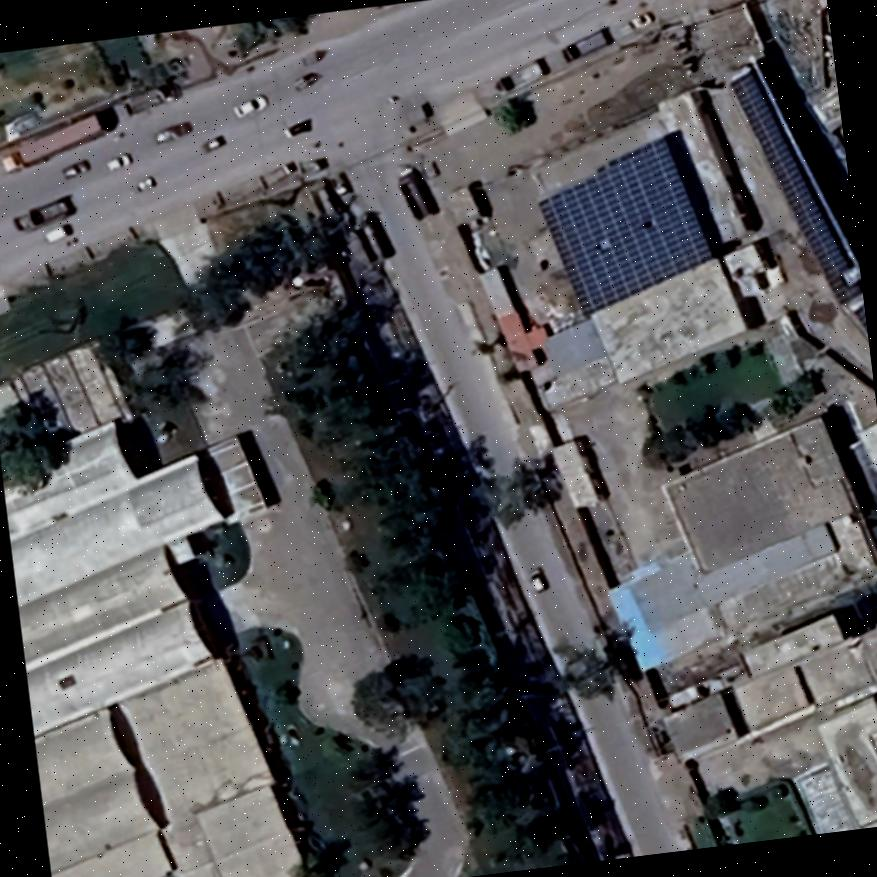Solarpanel: (725, 58, 869, 347), (531, 127, 718, 322)
